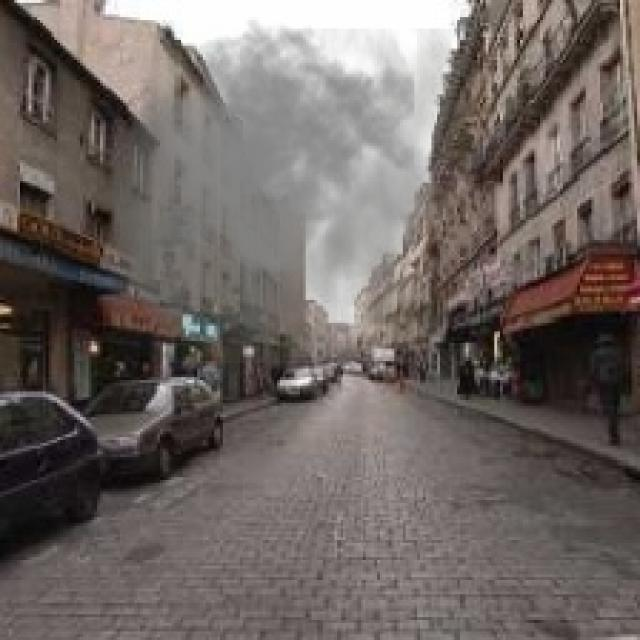smoke: (106, 17, 451, 363)
